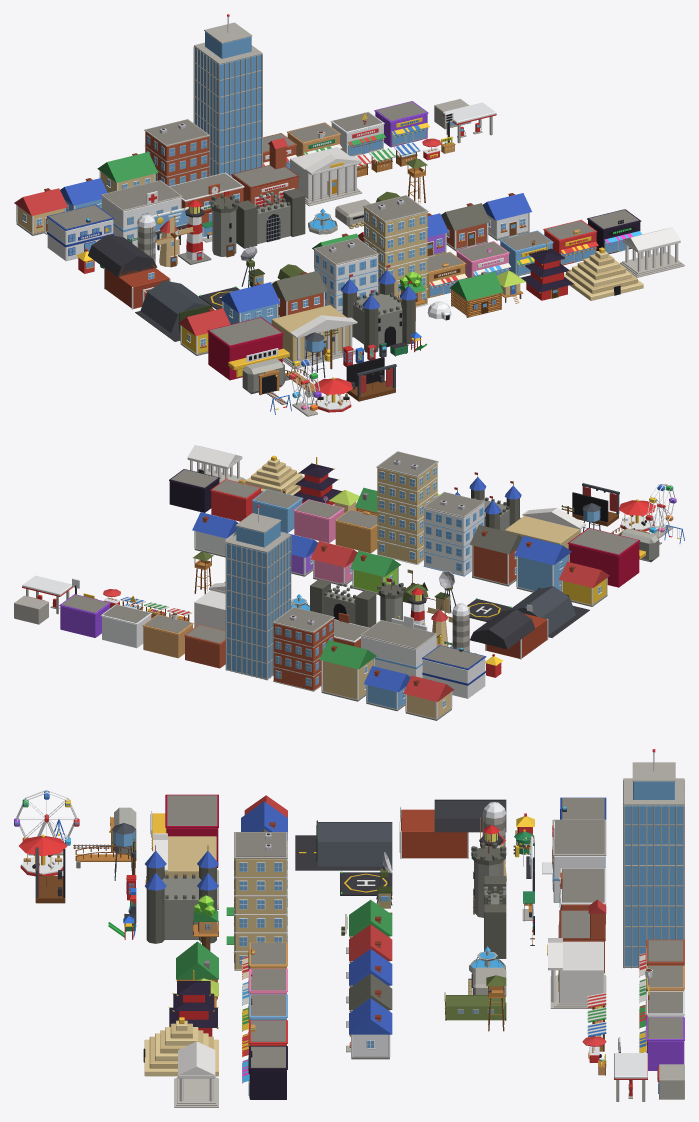
Rendered from Buildings.fbx.
3 renders of one model, top to bottom at view 1: azimuth 30°, elevation 25°; view 2: azimuth 150°, elevation 25°; view 3: azimuth 270°, elevation 25°, orthographic. The views are drawn at different scales.
Visible parts, largest first — view 1: Skyscraper, TallApartment, CastleKeep, ApartmentBuilding, Cinema, Barn, WhiteApartment, Museum, CastleGate, Bank, Hospital, PoliceStation (+33 smaller); view 2: Skyscraper, TallApartment, ApartmentBuilding, WhiteApartment, Hospital, Cinema, Barn, TwoStoryHouse, PoliceStation, RedTwoStoryHouse, BlueTwoStoryHouse, CastleGate (+36 smaller); view 3: Skyscraper, TallApartment, CastleKeep, Barn, Hangar, Bank, Hospital, Cinema, GreekTemple, Pyramid, WhiteHouse, ArcadeShop (+34 smaller).
Part boxes in pixels (box(x1,y1,x2,y2)): Skyscraper: box(193, 14, 262, 176); TallApartment: box(363, 195, 428, 307); CastleKeep: box(341, 265, 417, 352); ApartmentBuilding: box(144, 119, 209, 186); Cinema: box(207, 317, 289, 380); Barn: box(88, 234, 170, 309); WhiteApartment: box(313, 238, 379, 313); Museum: box(271, 305, 357, 368); CastleGate: box(236, 188, 305, 248); Bank: box(290, 147, 362, 206); Hospital: box(101, 180, 182, 246); PoliceStation: box(46, 204, 114, 260); Skyscraper: box(225, 505, 291, 680); TallApartment: box(376, 451, 438, 564); ApartmentBuilding: box(272, 607, 334, 691); WhiteApartment: box(423, 492, 485, 576); Hospital: box(360, 615, 437, 677); Cinema: box(567, 528, 645, 587); Barn: box(470, 604, 548, 659); TwoStoryHouse: box(319, 640, 376, 701); PoliceStation: box(422, 645, 486, 698); RedTwoStoryHouse: box(469, 525, 522, 586); BlueTwoStoryHouse: box(514, 536, 571, 592); CastleGate: box(310, 579, 376, 627); Skyscraper: box(623, 749, 684, 968); TallApartment: box(226, 832, 287, 970); CastleKeep: box(145, 845, 218, 943); Barn: box(399, 799, 506, 858); Hangar: box(295, 820, 392, 870); Bank: box(547, 938, 606, 1008); Hospital: box(542, 819, 606, 902); Cinema: box(150, 794, 218, 867); GreekTemple: box(174, 1041, 218, 1107); Pyramid: box(143, 1017, 218, 1076); WhiteHouse: box(346, 998, 392, 1059); ArcadeShop: box(242, 1046, 287, 1099).
Size of the model in its own units: 173 by 60.85 by 180.
Materials: 1 (1 with a texture image).
